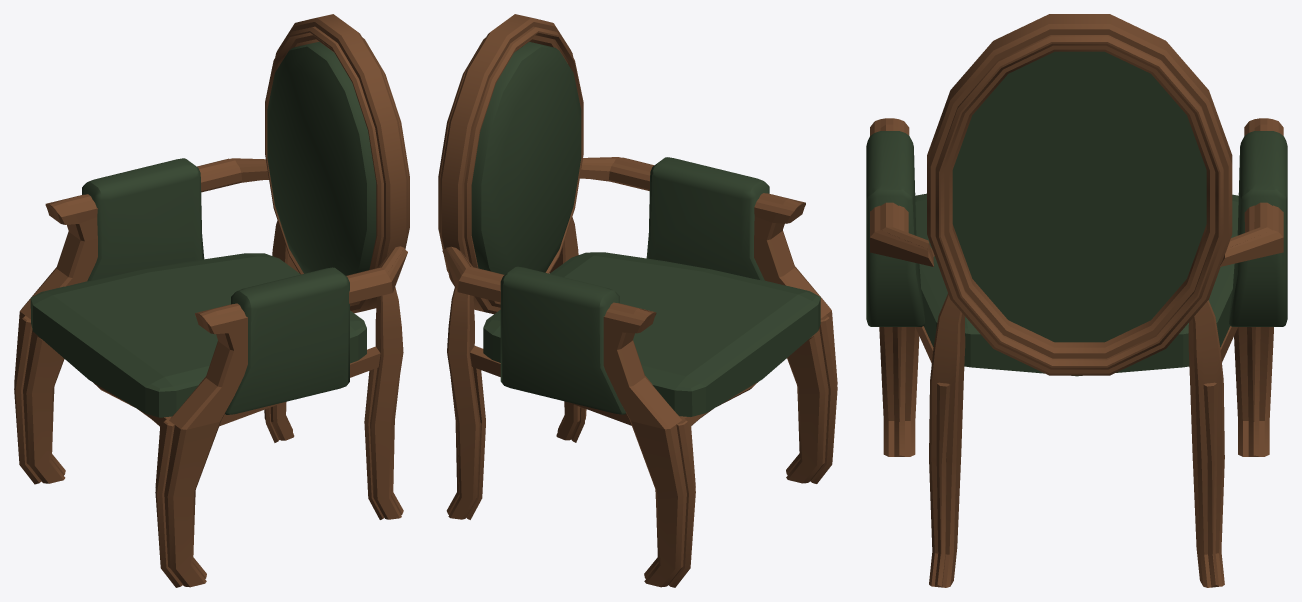
File: Chair.fbx
3 renders of one model, left to right at view 1: azimuth 30°, elevation 25°; view 2: azimuth 150°, elevation 25°; view 3: azimuth 270°, elevation 25°, orthographic. The views are drawn at different scales.
Parts seen in each view (by area): view 1: Cube.005; view 2: Cube.005; view 3: Cube.005.
Part boxes in pixels (x1,y1,x2,y2): Cube.005: (14, 14, 409, 587); Cube.005: (438, 14, 837, 587); Cube.005: (866, 14, 1287, 587).
Bounding box in the file's own units: 254 × 408 × 274.
